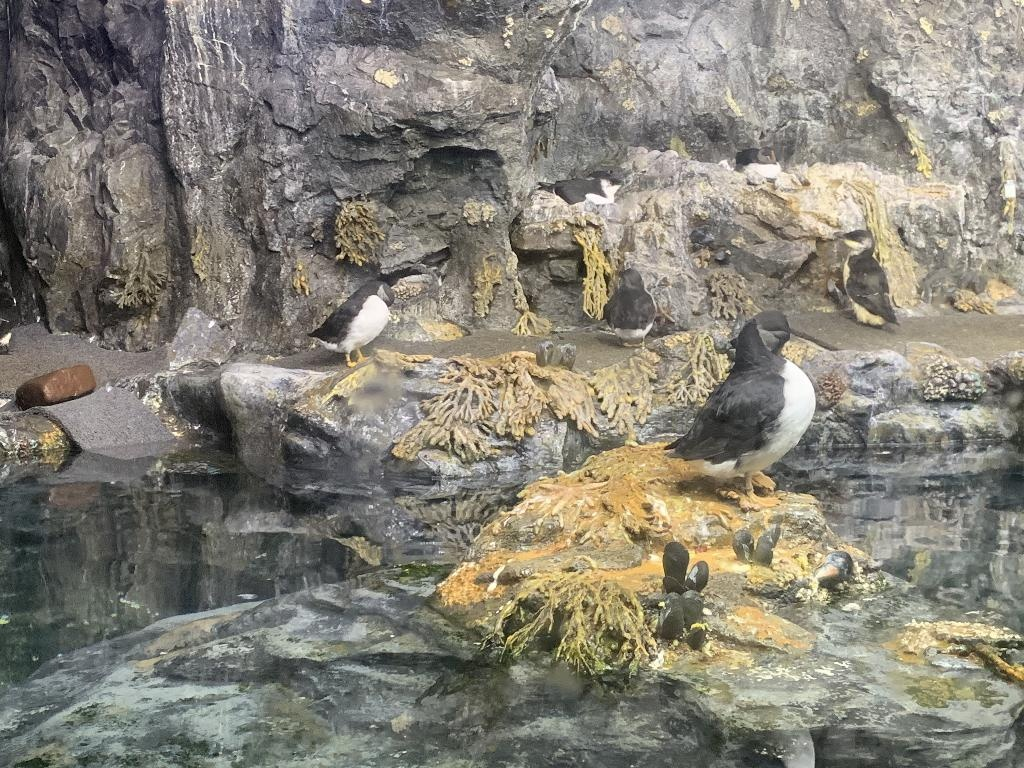puffin: (662, 308, 822, 510), (304, 278, 398, 368), (838, 228, 900, 328), (600, 267, 658, 349), (538, 169, 622, 207), (811, 544, 863, 596), (734, 146, 782, 178)
